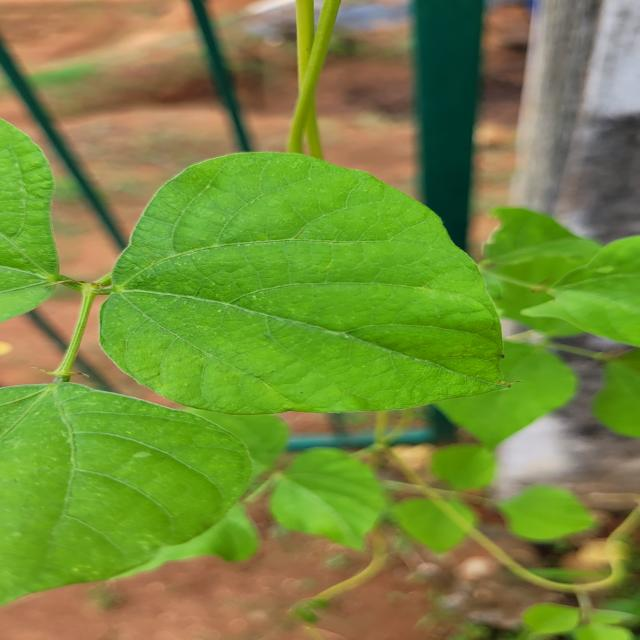Dolicos bean_healthy: (99, 148, 522, 416), (0, 383, 278, 608)
